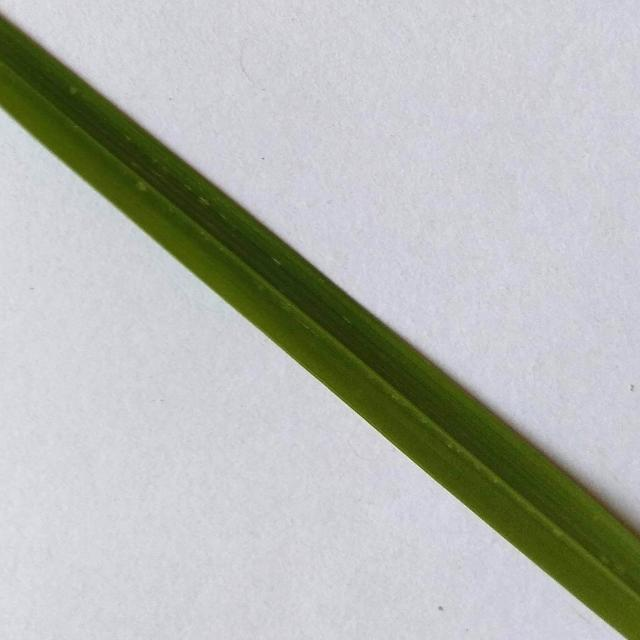Rice_Healthy: (0, 18, 640, 640)
